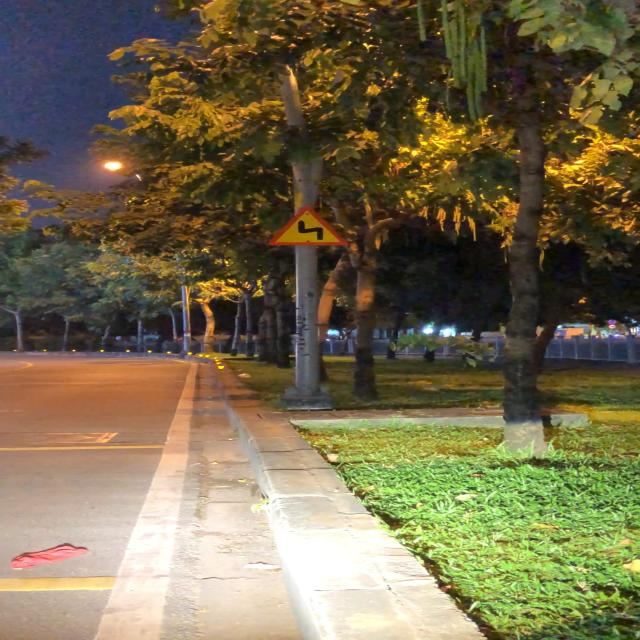Bien bao nhieu cho ngoat nguy hiem lien tiep: (265, 205, 351, 248)
